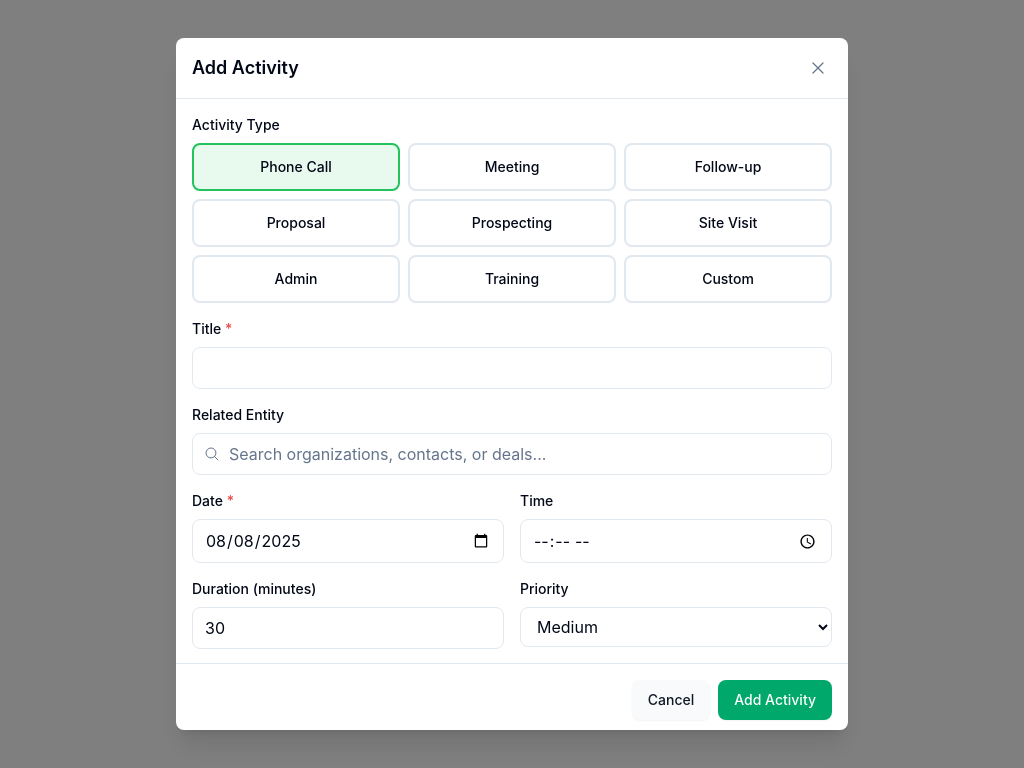
Test: ActivityModal › should show custom activity type input when custom is selected
Click the button "Custom" at (728,279), box [624,255,832,303]
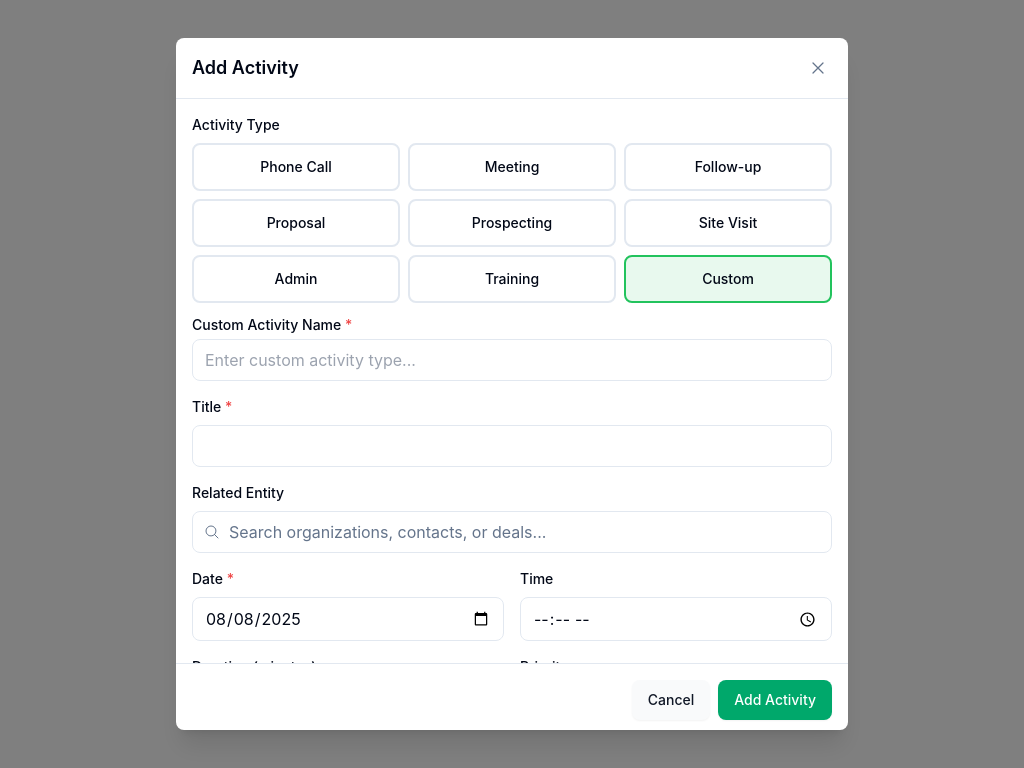
Result: the field with placeholder "Enter custom activity type..." is shown at [192,339,832,381]
